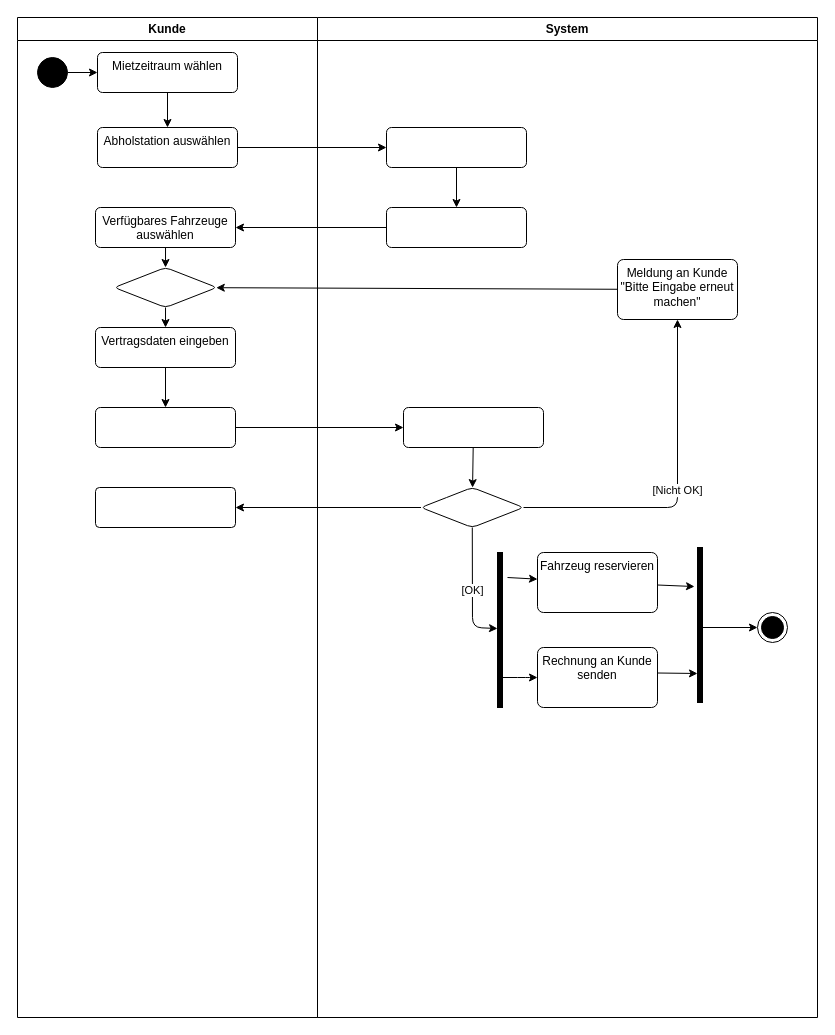
The diagram is 835 pixels wide and 1035 high, and some of its shapes have lost their labels. Here are the shapes that lost their labels. From the top down, the box of each, then its label:
(386, 126, 526, 168): Daten prüfen
(386, 206, 526, 248): Verfügbare Fahrzeuge anzeigen
(94, 406, 236, 448): Zahlungsdaten eingeben
(402, 406, 544, 448): Zahlungs und Vertragsdaten prüfen
